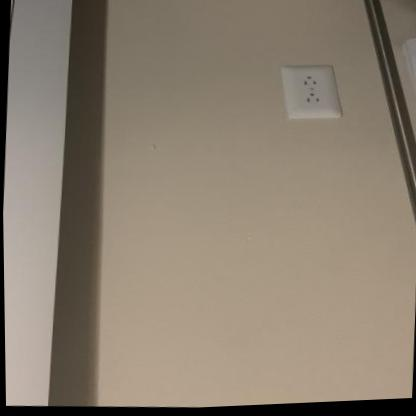OUTLET: (276, 60, 341, 122)
